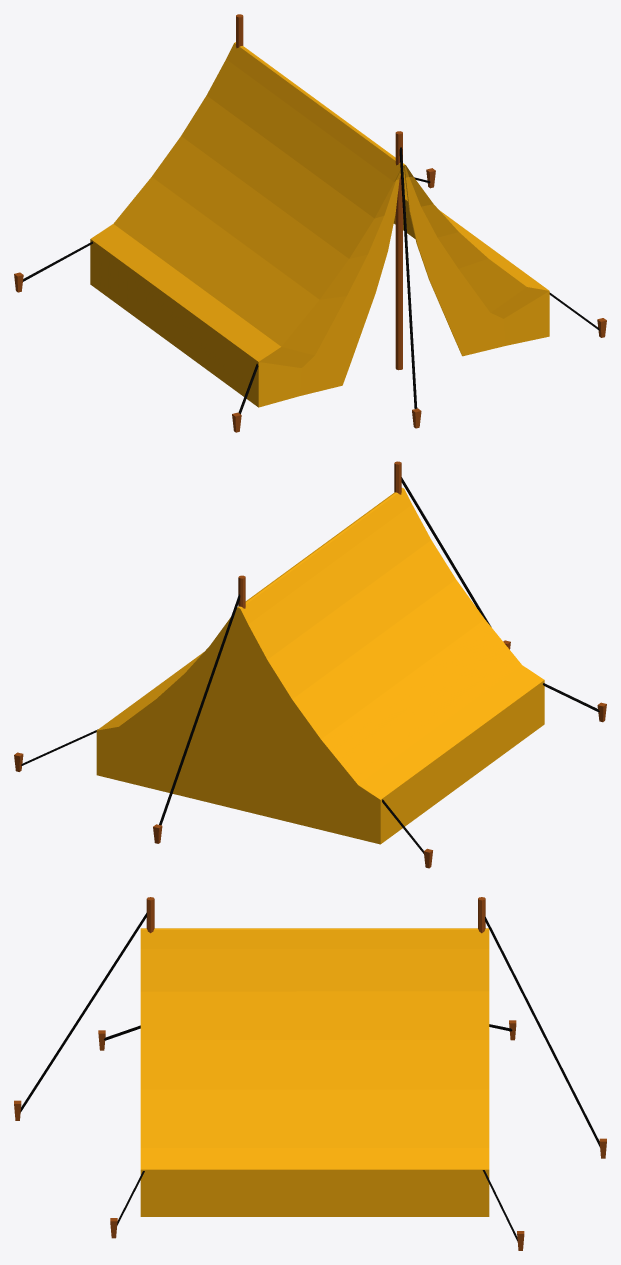
Rendered from Tent_03.fbx.
3 renders of one model, top to bottom at view 1: azimuth 30°, elevation 25°; view 2: azimuth 150°, elevation 25°; view 3: azimuth 270°, elevation 25°, orthographic. The views are drawn at different scales.
Visible parts, largest first — view 1: Tent_03; view 2: Tent_03; view 3: Tent_03.
Boxes of the visible parts, x1,y1,x2,y2 form: Tent_03: [14, 14, 606, 432]; Tent_03: [14, 461, 606, 868]; Tent_03: [14, 897, 606, 1250].
Size of the model in its own units: 355 by 190 by 417.
